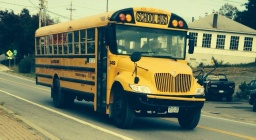bus: (31, 6, 205, 131)
